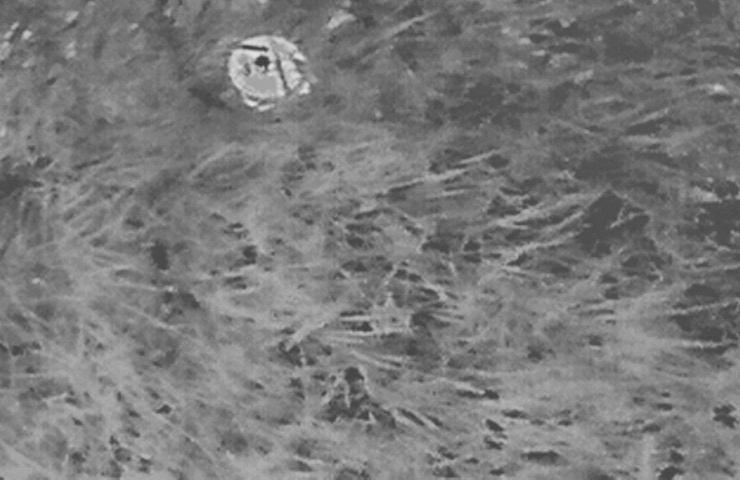landmines: (229, 31, 318, 111)
